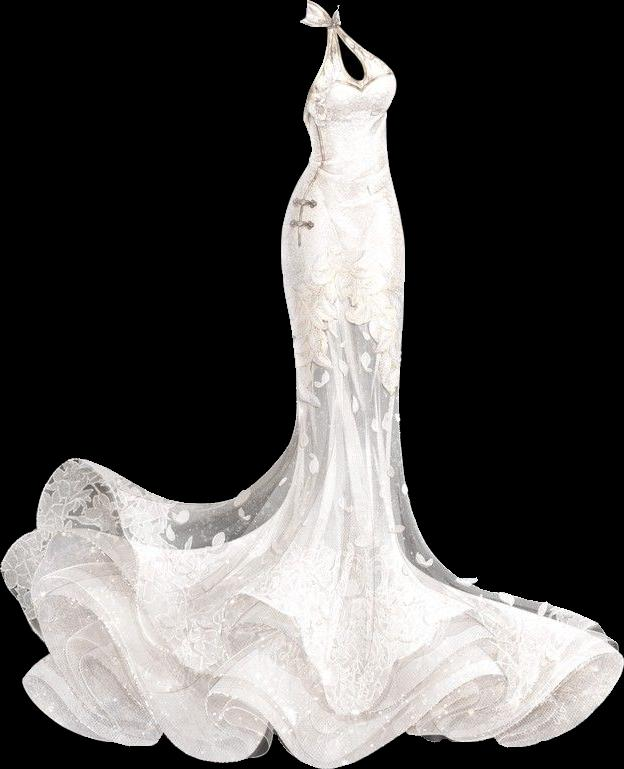Bodice: (300, 0, 396, 178)
Hemline: (0, 454, 621, 729), (24, 581, 571, 762)
Neckline: (314, 69, 393, 95), (305, 0, 343, 24)
Skirt: (1, 164, 623, 768)
